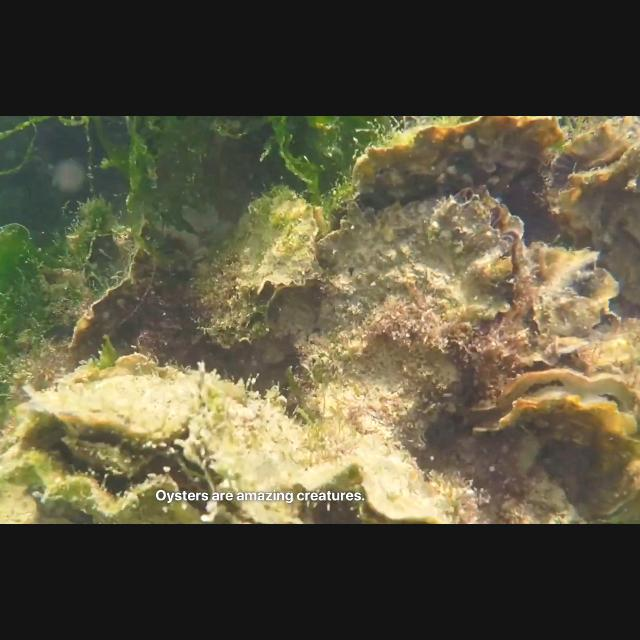Oyster-Closed: (356, 115, 570, 212), (72, 244, 202, 364)
Oyster-Open: (304, 180, 536, 450), (9, 370, 229, 524), (184, 363, 312, 525), (547, 123, 640, 306), (472, 365, 640, 455), (292, 442, 473, 524), (528, 237, 626, 361), (247, 194, 333, 310), (197, 233, 281, 347), (589, 458, 640, 524)
